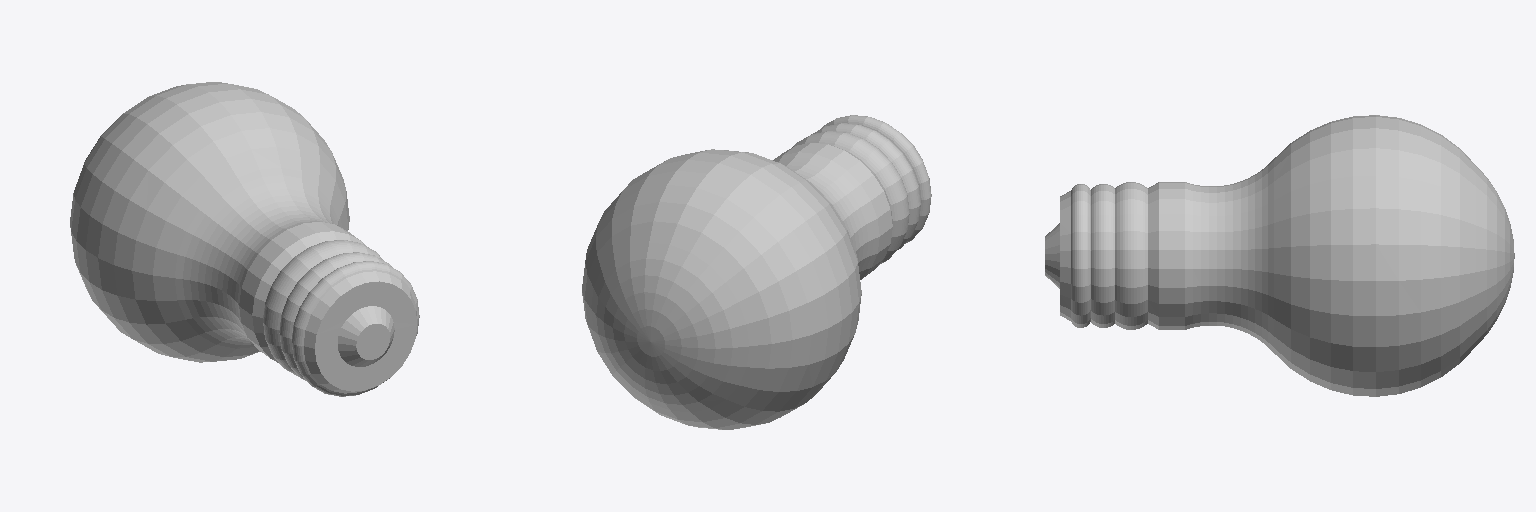
The model's file is lightbulb1.obj.
The picture shows the model from 3 angles: view 1: azimuth 30°, elevation 25°; view 2: azimuth 150°, elevation 25°; view 3: azimuth 270°, elevation 25°; orthographic projection.
Bounding box in the file's own units: 0.0451 × 0.0451 × 0.0749.